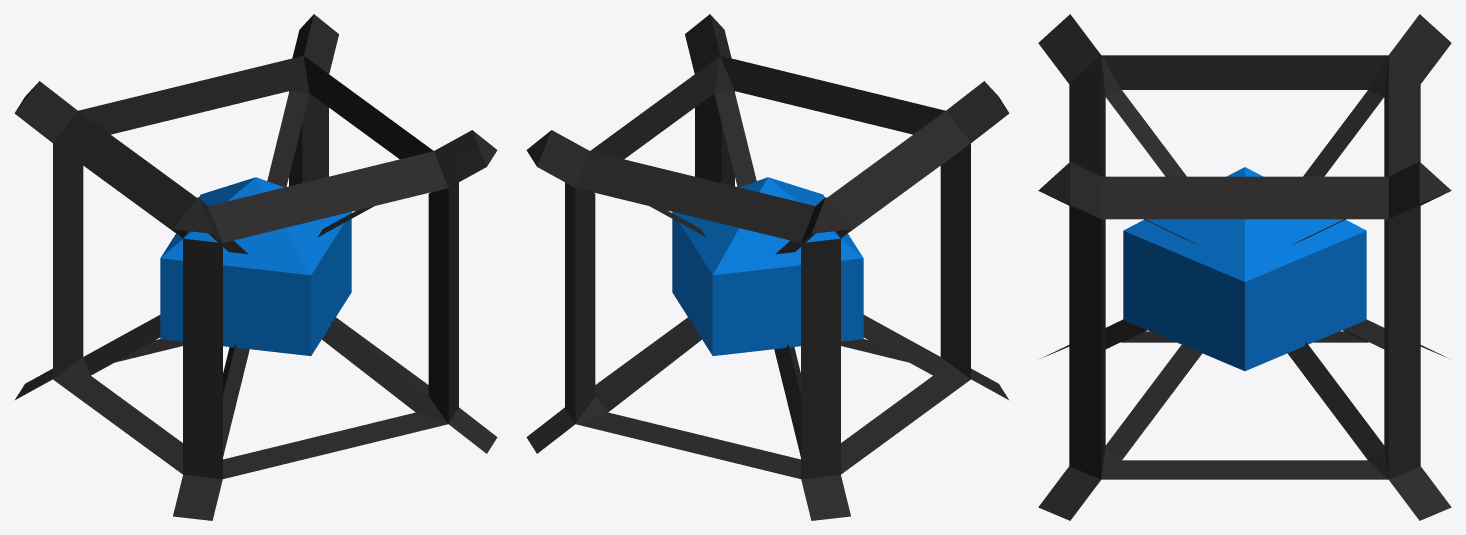
File: geology-pack.glb
3 views of the same model, side by side, from view 1: azimuth 30°, elevation 25°; view 2: azimuth 150°, elevation 25°; view 3: azimuth 270°, elevation 25° (orthographic). The views are drawn at different scales.
Visible parts, largest first — view 1: Cube; view 2: Cube; view 3: Cube.
Part boxes in pixels (left/top/right/bottom): Cube: left=14, top=14, right=497, bottom=520; Cube: left=526, top=14, right=1009, bottom=520; Cube: left=1038, top=14, right=1451, bottom=520.
Bounding box in the file's own units: 2.94 × 2.71 × 2.94.
